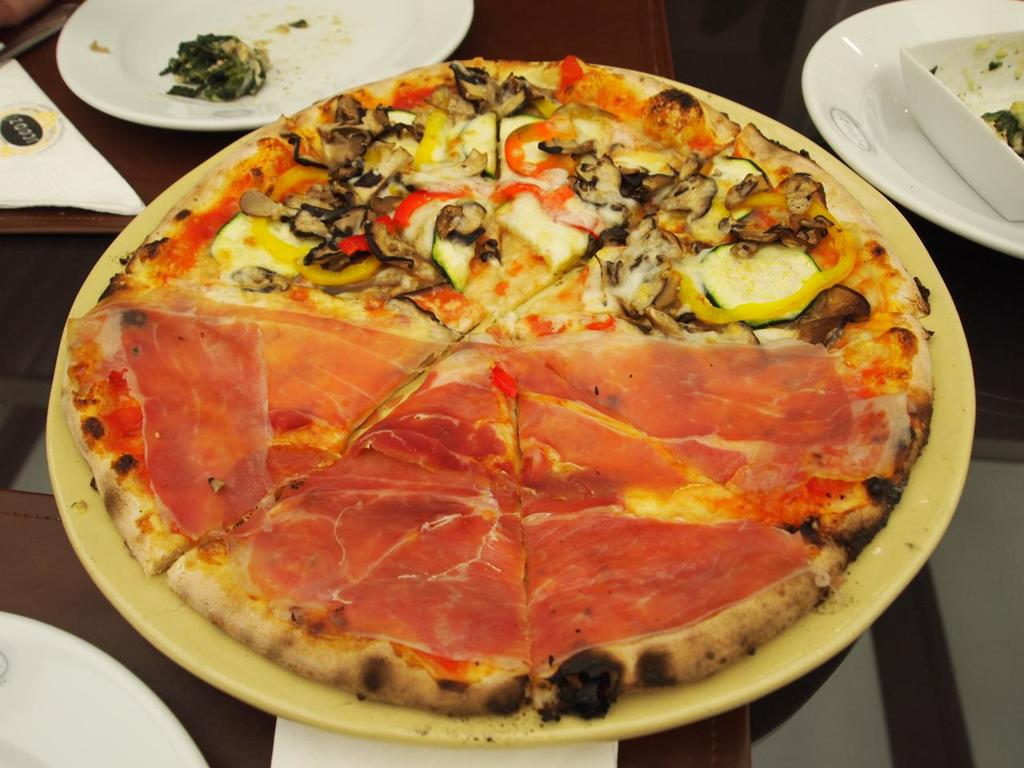Pizza: (63, 44, 946, 724)
